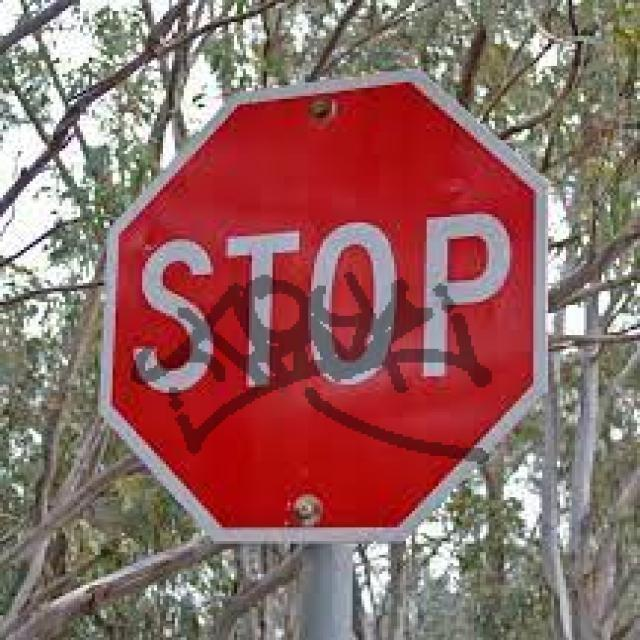Stop-Sign: (124, 99, 530, 523)
